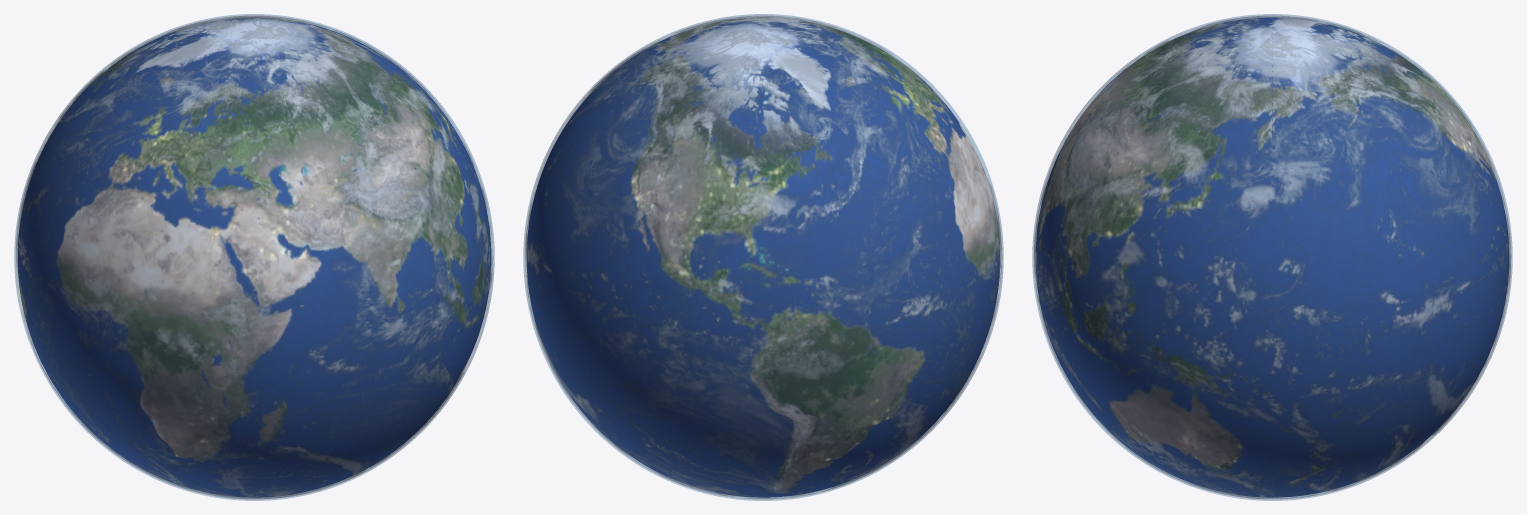
The model's file is earth_compressed.glb.
3 views of the same model, side by side, from view 1: azimuth 30°, elevation 25°; view 2: azimuth 150°, elevation 25°; view 3: azimuth 270°, elevation 25° (orthographic).
Visible parts, largest first — view 1: pSphere5, pSphere1, pSphere4; view 2: pSphere5, pSphere1, pSphere4; view 3: pSphere5, pSphere1, pSphere4.
Part boxes in pixels (box(x1,y1,x2,y2)): pSphere5: box(14, 14, 494, 500); pSphere1: box(17, 17, 491, 497); pSphere4: box(16, 15, 493, 499); pSphere5: box(523, 14, 1003, 500); pSphere1: box(526, 17, 1000, 497); pSphere4: box(525, 15, 1002, 499); pSphere5: box(1032, 14, 1512, 500); pSphere1: box(1035, 17, 1509, 497); pSphere4: box(1034, 15, 1510, 499).
Size of the model in its own units: 192 by 196 by 192.
3 materials, 2 textured.
